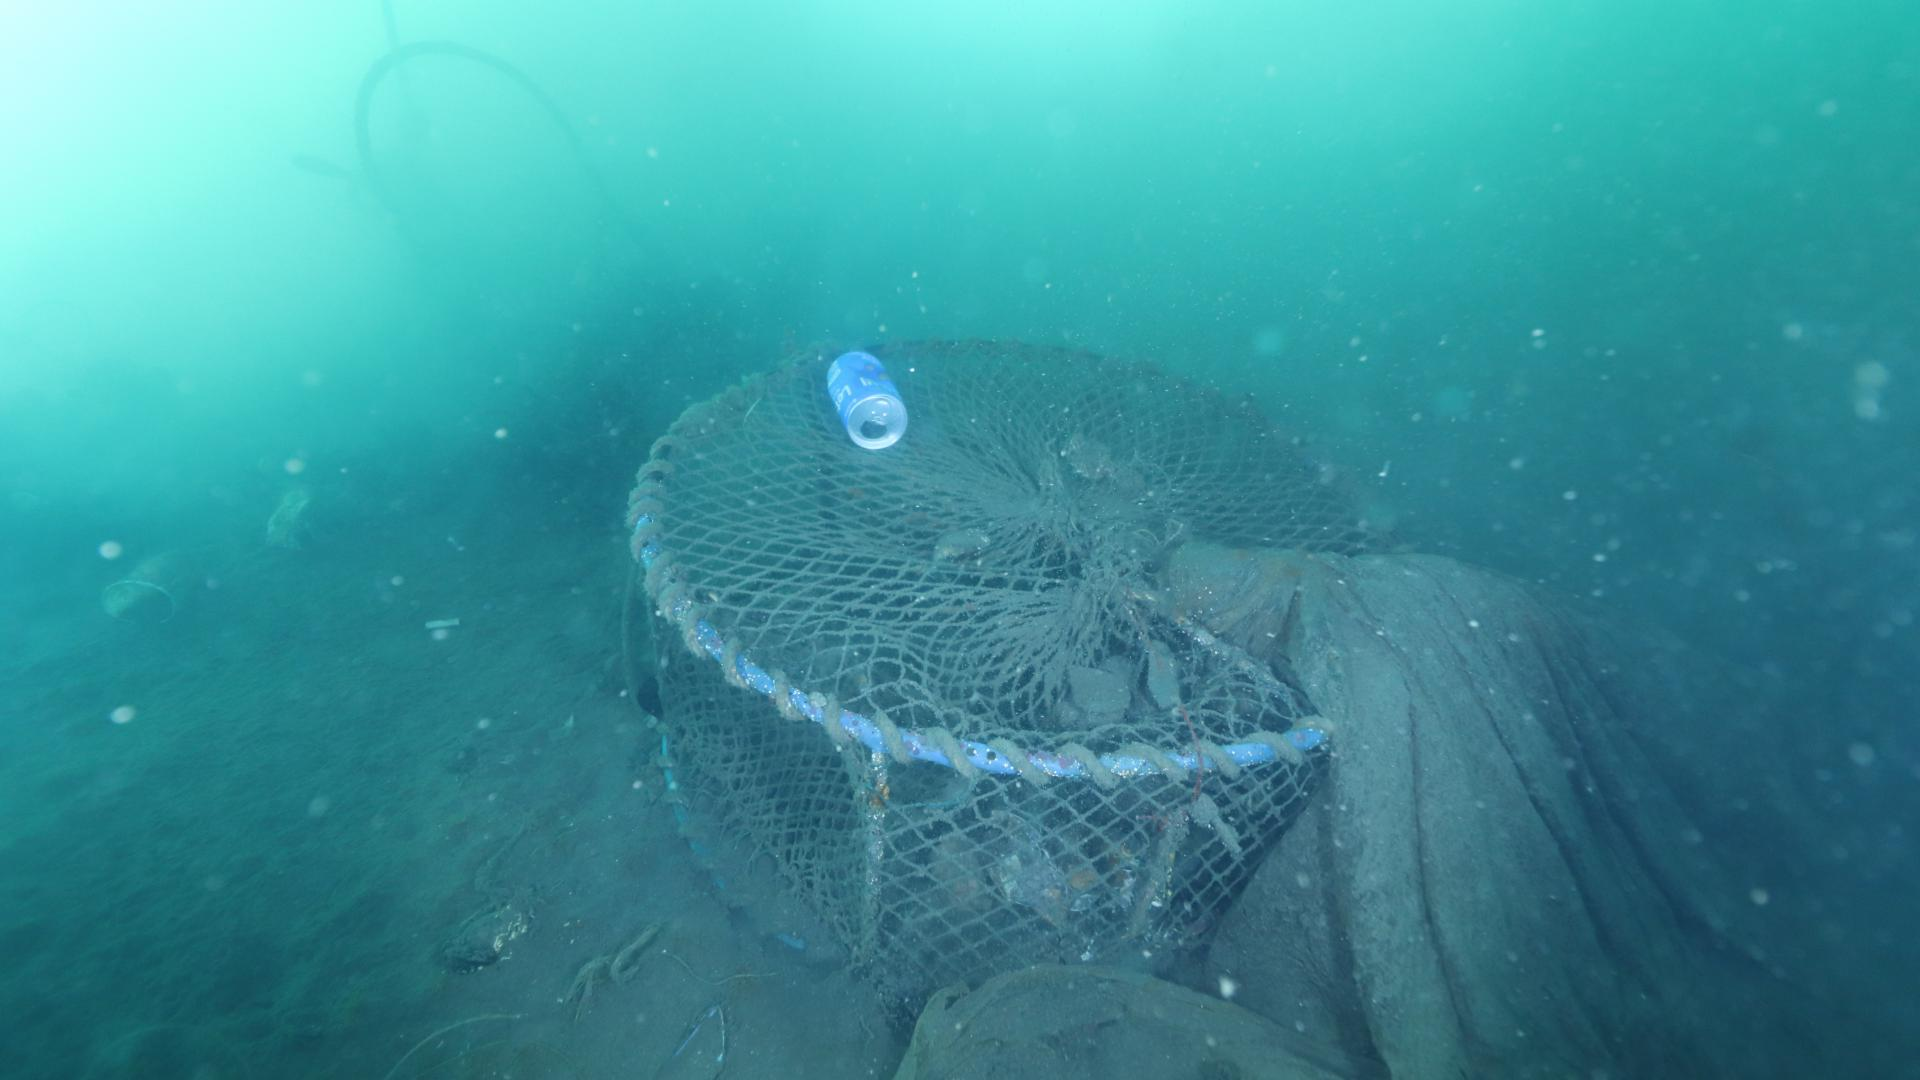circular fish trap: (616, 326, 1420, 1010)
